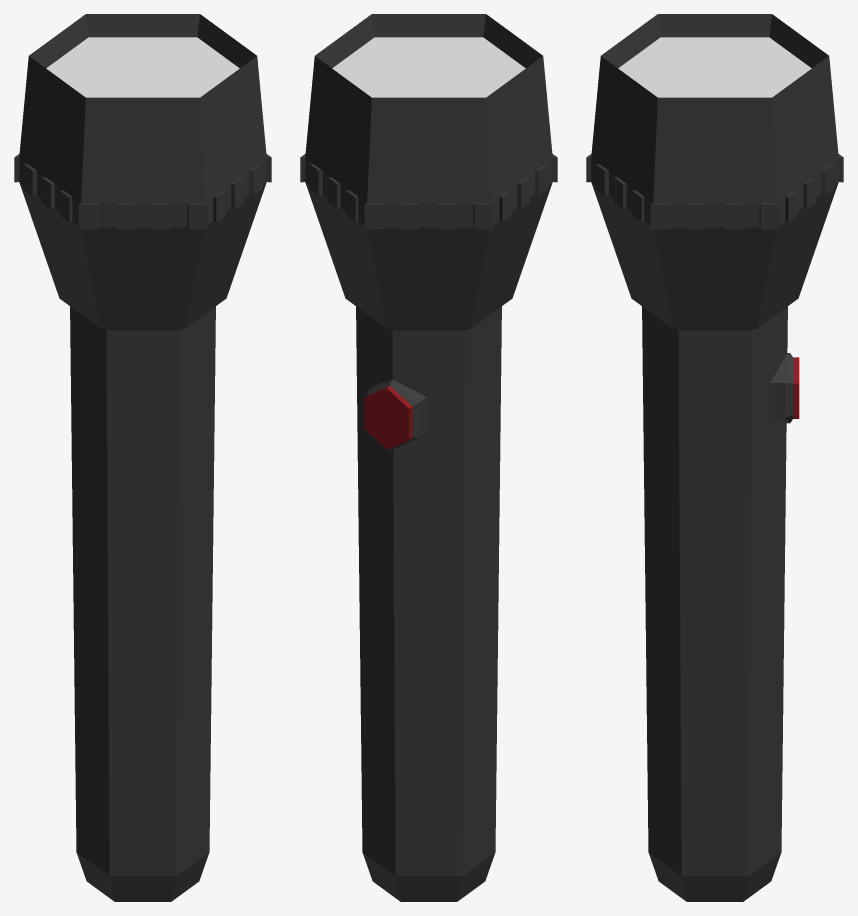
The model's file is eui2.fbx.
The picture shows the model from 3 angles, left to right: view 1: azimuth 30°, elevation 25°; view 2: azimuth 150°, elevation 25°; view 3: azimuth 270°, elevation 25°; orthographic projection.
Visible parts, largest first — view 1: Circle.002; view 2: Circle.002; view 3: Circle.002.
Part boxes in pixels (box(x1,y1,x2,y2)): Circle.002: box(14, 14, 271, 901); Circle.002: box(300, 14, 557, 901); Circle.002: box(586, 14, 843, 901).
Size of the model in its own units: 43.18 by 177 by 49.86.
